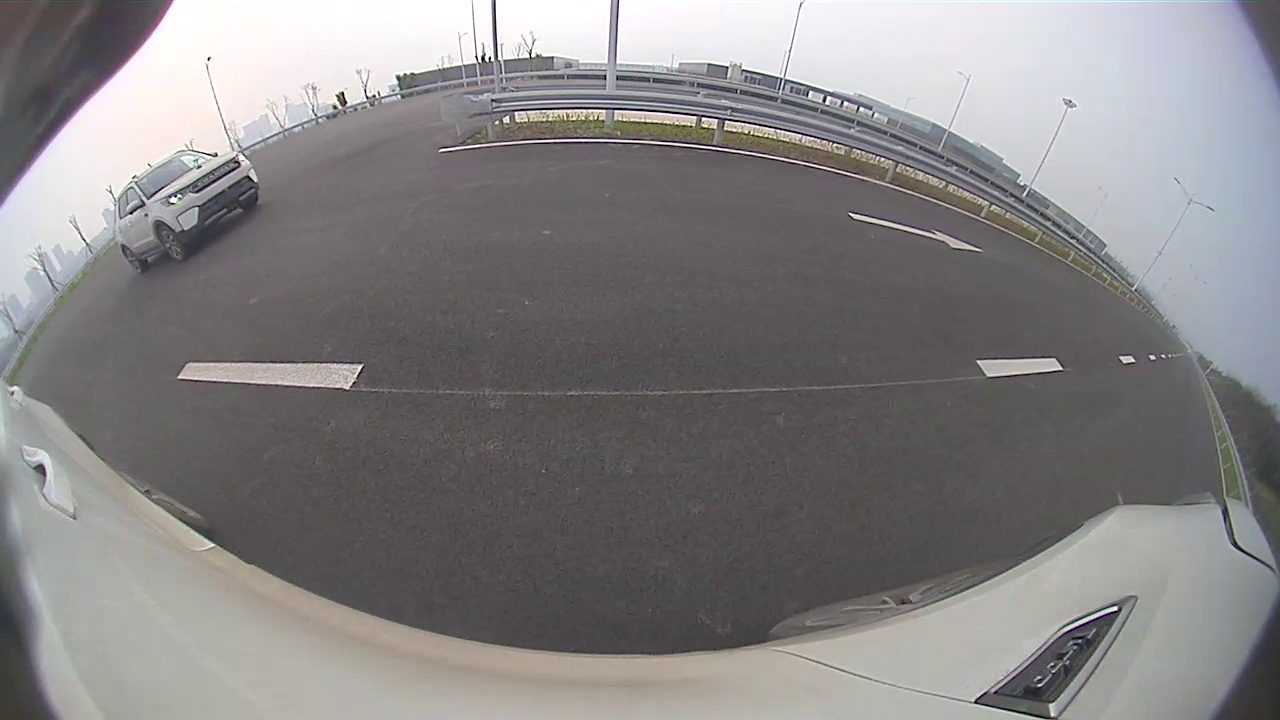car: (115, 149, 260, 274)
front: (154, 223, 190, 262)
